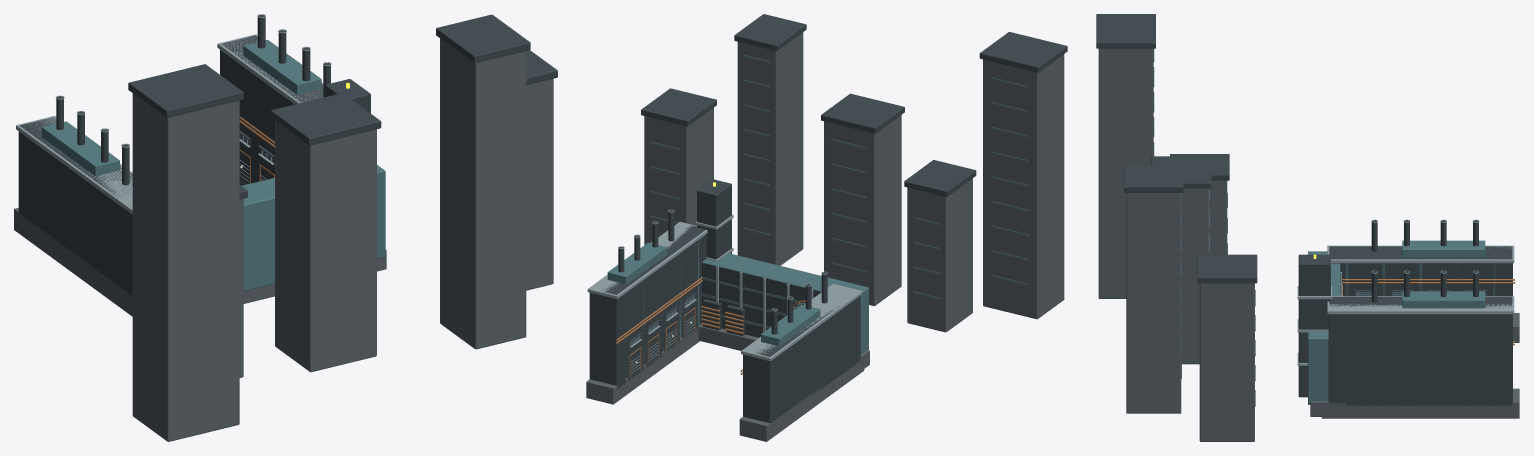
File: RelayFoundry.fbx
The picture shows the model from 3 angles, left to right: view 1: azimuth 30°, elevation 25°; view 2: azimuth 150°, elevation 25°; view 3: azimuth 270°, elevation 25°; orthographic projection. The views are drawn at different scales.
Parts seen in each view (by area): view 1: FrameMesh; view 2: FrameMesh; view 3: FrameMesh.
Boxes of the visible parts, x1,y1,x2,y2 form: FrameMesh: (14,14,557,441); FrameMesh: (586,14,1067,441); FrameMesh: (1096,14,1519,441).
Size of the model in its own units: 88.5 by 64.7 by 92.
